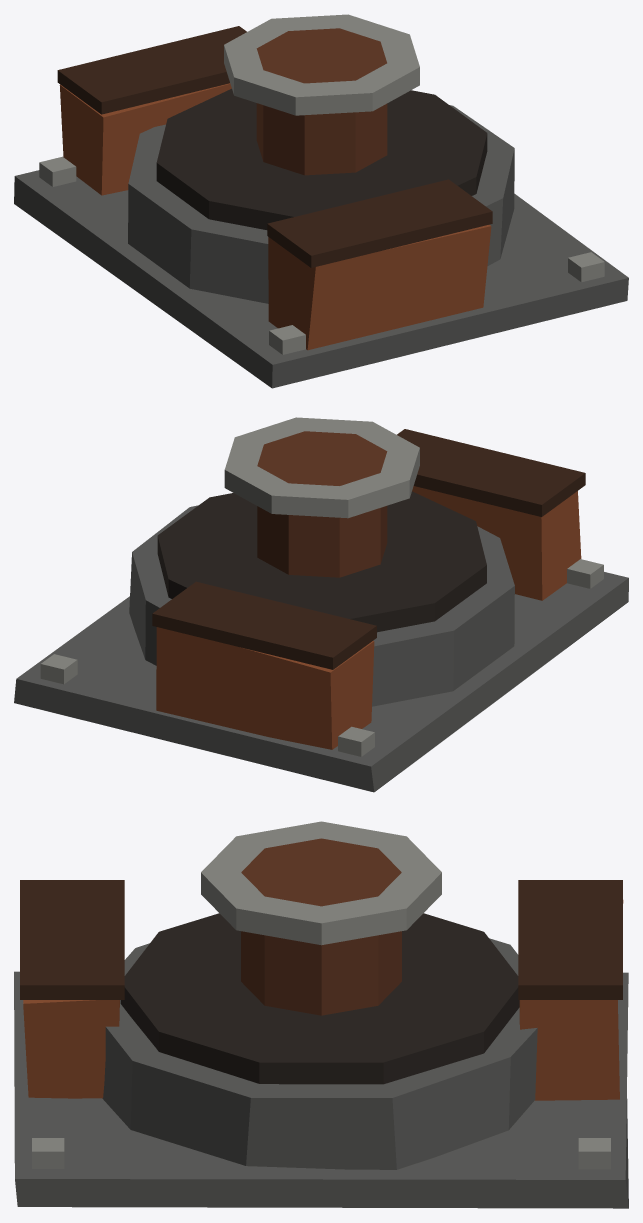
The model's file is wmount_ring_wide.glb.
3 renders of one model, top to bottom at view 1: azimuth 30°, elevation 25°; view 2: azimuth 150°, elevation 25°; view 3: azimuth 270°, elevation 25°, orthographic. The views are drawn at different scales.
Visible parts, largest first — view 1: wmount_ring_wide; view 2: wmount_ring_wide; view 3: wmount_ring_wide.
Part boxes in pixels (<box>): wmount_ring_wide: <box>14,14,628,388</box>; wmount_ring_wide: <box>14,417,628,792</box>; wmount_ring_wide: <box>14,821,628,1208</box>.
Bounding box in the file's own units: 0.6154 × 0.3226 × 0.765.
